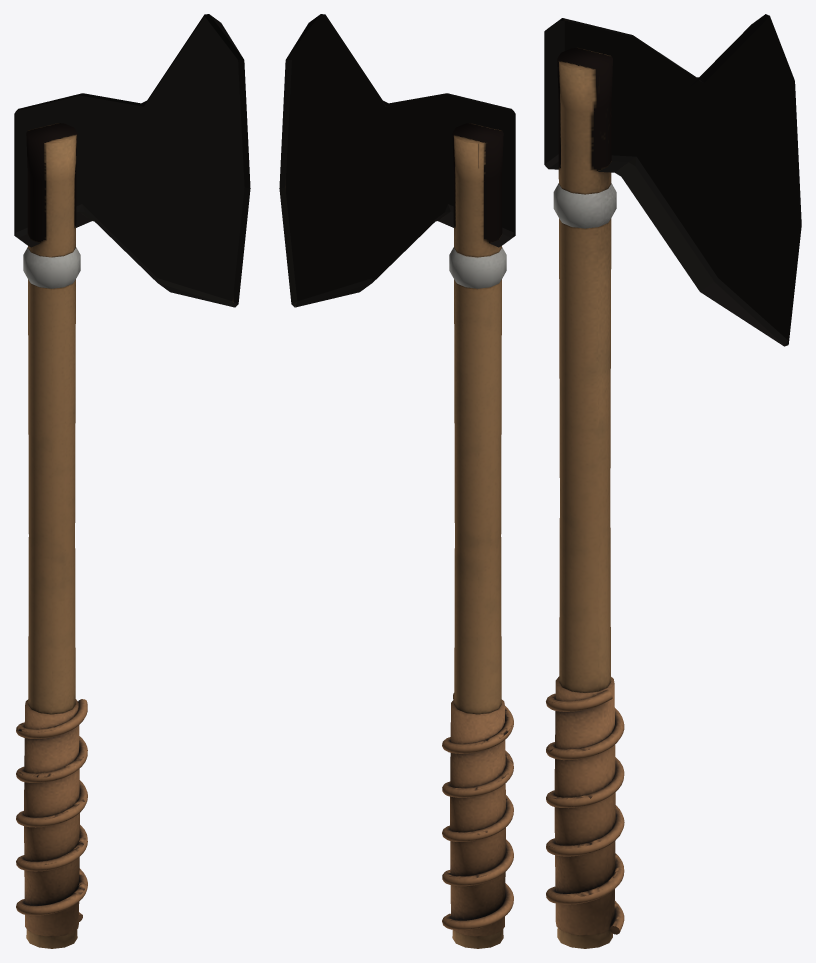
The model's file is arma_machado_mao_comum.glb.
3 renders of one model, left to right at view 1: azimuth 30°, elevation 25°; view 2: azimuth 150°, elevation 25°; view 3: azimuth 330°, elevation 25°, orthographic. The views are drawn at different scales.
Visible parts, largest first — view 1: arma_machado_mao_comum; view 2: arma_machado_mao_comum; view 3: arma_machado_mao_comum.
Part boxes in pixels (x1,y1,x2,y2): arma_machado_mao_comum: (14, 14, 250, 948); arma_machado_mao_comum: (279, 14, 515, 948); arma_machado_mao_comum: (544, 14, 801, 948).
Bounding box in the file's own units: 0.1852 × 0.6777 × 0.0504.
1 material, 1 textured.
